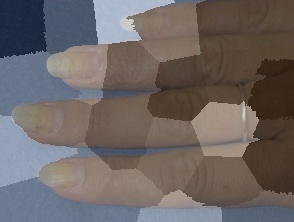Nail_psoriasis: (8, 99, 59, 136), (117, 6, 167, 40), (46, 50, 98, 79), (36, 161, 76, 189)
